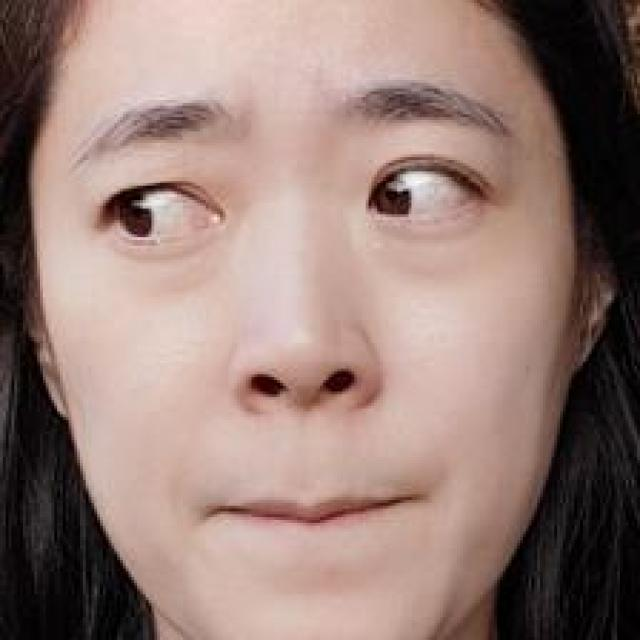fear: (75, 43, 538, 640)
